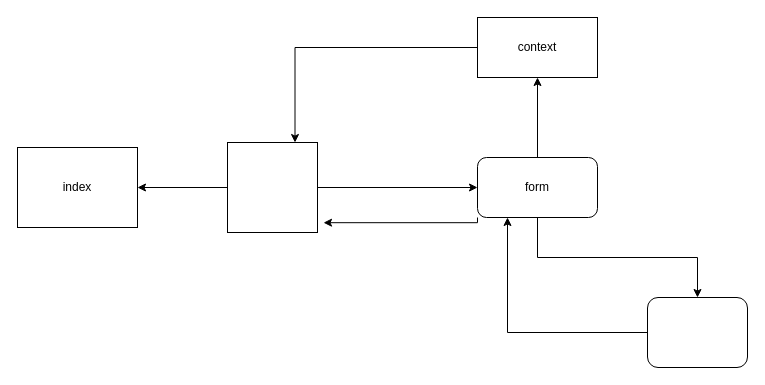
The diagram is 765 pixels wide and 385 high, and some of its shapes have lost their labels. Each missing label, with the box of its shape:
app: (226, 142, 318, 232)
list: (646, 296, 748, 368)
